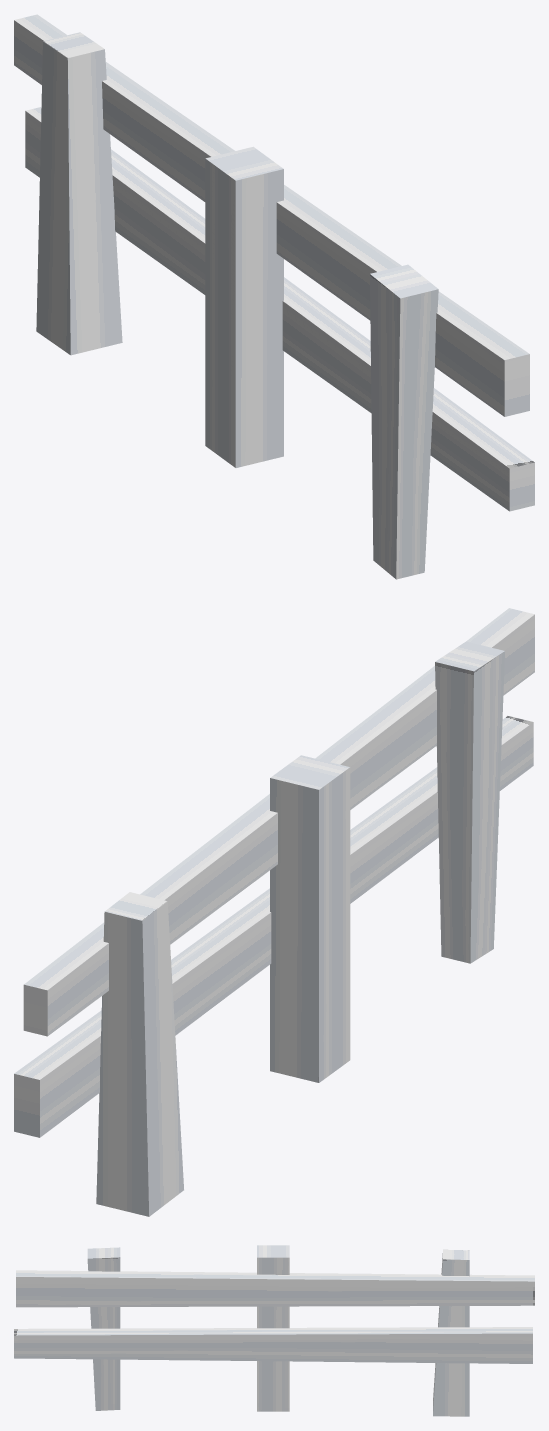
Rendered from pz-fence.obj.
3 views of the same model, one above another, from view 1: azimuth 30°, elevation 25°; view 2: azimuth 150°, elevation 25°; view 3: azimuth 270°, elevation 25° (orthographic). The views are drawn at different scales.
Parts seen in each view (by area): view 1: pz_fence:Mesh; view 2: pz_fence:Mesh; view 3: pz_fence:Mesh.
Boxes of the visible parts, bbox=[...] form: pz_fence:Mesh: bbox=[14, 14, 534, 579]; pz_fence:Mesh: bbox=[14, 608, 534, 1216]; pz_fence:Mesh: bbox=[14, 1245, 534, 1416].
Bounding box in the file's own units: 8.84 × 33.99 × 101.
